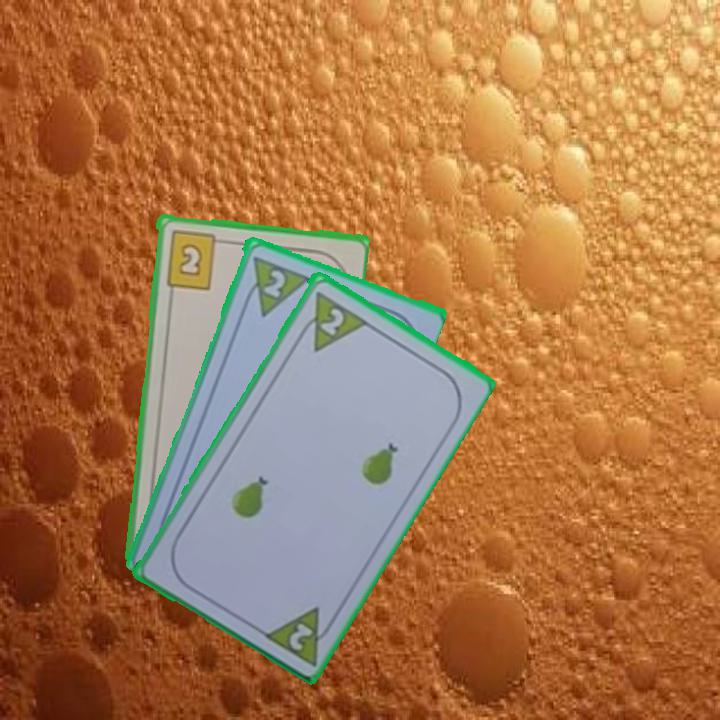2b: (162, 226, 228, 291)
2p: (259, 602, 340, 668), (292, 286, 369, 355), (238, 251, 310, 319)
